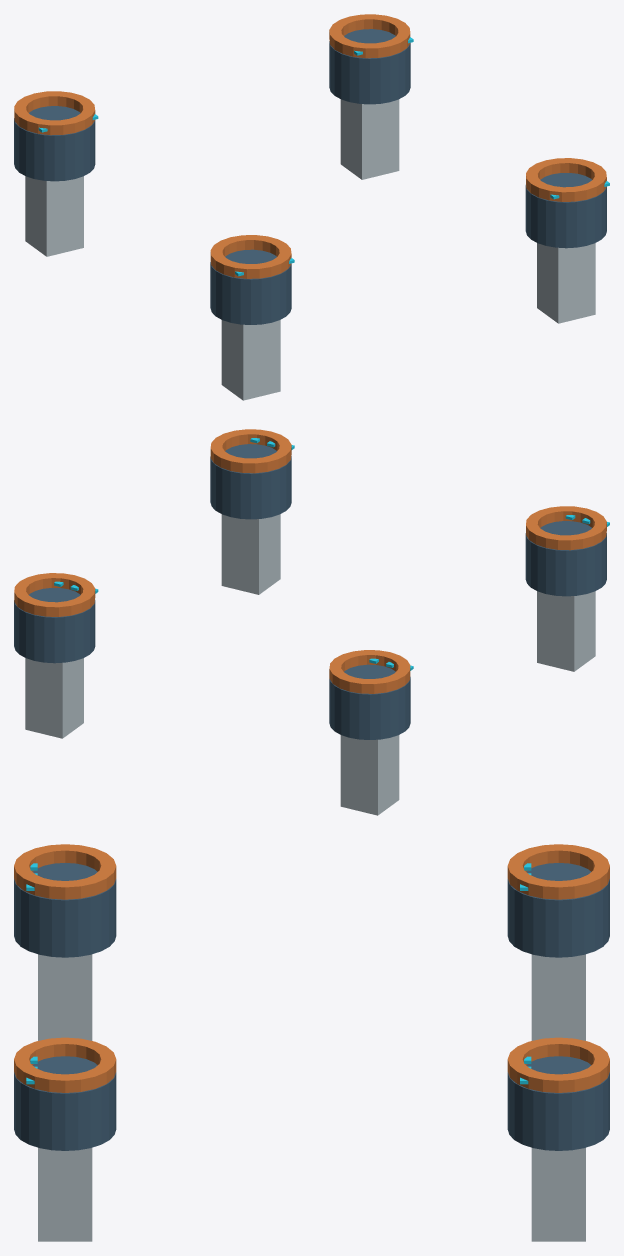
Rendered from 19_L75_FourCornerBeamUniformityCups.fbx.
The picture shows the model from 3 angles, top to bottom: view 1: azimuth 30°, elevation 25°; view 2: azimuth 150°, elevation 25°; view 3: azimuth 270°, elevation 25°; orthographic projection. The views are drawn at different scales.
Parts seen in each view (by area): view 1: FourCornerBeamUniformityCups_Part_0014, FourCornerBeamUniformityCups_Part_0000, FourCornerBeamUniformityCups_Part_0007, FourCornerBeamUniformityCups_Part_0021, FourCornerBeamUniformityCups_Part_0009, FourCornerBeamUniformityCups_Part_0016, FourCornerBeamUniformityCups_Part_0023, FourCornerBeamUniformityCups_Part_0002, FourCornerBeamUniformityCups_Part_0015, FourCornerBeamUniformityCups_Part_0001, FourCornerBeamUniformityCups_Part_0022, FourCornerBeamUniformityCups_Part_0008; view 2: FourCornerBeamUniformityCups_Part_0021, FourCornerBeamUniformityCups_Part_0000, FourCornerBeamUniformityCups_Part_0007, FourCornerBeamUniformityCups_Part_0014, FourCornerBeamUniformityCups_Part_0002, FourCornerBeamUniformityCups_Part_0023, FourCornerBeamUniformityCups_Part_0016, FourCornerBeamUniformityCups_Part_0009, FourCornerBeamUniformityCups_Part_0022, FourCornerBeamUniformityCups_Part_0008, FourCornerBeamUniformityCups_Part_0015, FourCornerBeamUniformityCups_Part_0001; view 3: FourCornerBeamUniformityCups_Part_0007, FourCornerBeamUniformityCups_Part_0000, FourCornerBeamUniformityCups_Part_0021, FourCornerBeamUniformityCups_Part_0014, FourCornerBeamUniformityCups_Part_0016, FourCornerBeamUniformityCups_Part_0023, FourCornerBeamUniformityCups_Part_0002, FourCornerBeamUniformityCups_Part_0009, FourCornerBeamUniformityCups_Part_0022, FourCornerBeamUniformityCups_Part_0008, FourCornerBeamUniformityCups_Part_0015, FourCornerBeamUniformityCups_Part_0001.
Boxes of the visible parts, x1=… form: FourCornerBeamUniformityCups_Part_0014: x1=329, y1=29, x2=410, y2=104; FourCornerBeamUniformityCups_Part_0000: x1=14, y1=106, x2=95, y2=181; FourCornerBeamUniformityCups_Part_0007: x1=210, y1=249, x2=291, y2=324; FourCornerBeamUniformityCups_Part_0021: x1=525, y1=173, x2=606, y2=248; FourCornerBeamUniformityCups_Part_0009: x1=221, y1=320, x2=280, y2=400; FourCornerBeamUniformityCups_Part_0016: x1=340, y1=99, x2=399, y2=179; FourCornerBeamUniformityCups_Part_0023: x1=537, y1=243, x2=595, y2=323; FourCornerBeamUniformityCups_Part_0002: x1=25, y1=176, x2=83, y2=256; FourCornerBeamUniformityCups_Part_0015: x1=329, y1=14, x2=410, y2=58; FourCornerBeamUniformityCups_Part_0001: x1=14, y1=91, x2=95, y2=135; FourCornerBeamUniformityCups_Part_0022: x1=526, y1=158, x2=606, y2=201; FourCornerBeamUniformityCups_Part_0008: x1=210, y1=235, x2=291, y2=278; FourCornerBeamUniformityCups_Part_0021: x1=210, y1=444, x2=291, y2=519; FourCornerBeamUniformityCups_Part_0000: x1=329, y1=664, x2=410, y2=739; FourCornerBeamUniformityCups_Part_0007: x1=525, y1=521, x2=606, y2=596; FourCornerBeamUniformityCups_Part_0014: x1=14, y1=588, x2=95, y2=663; FourCornerBeamUniformityCups_Part_0002: x1=340, y1=735, x2=399, y2=815; FourCornerBeamUniformityCups_Part_0023: x1=221, y1=514, x2=280, y2=594; FourCornerBeamUniformityCups_Part_0016: x1=25, y1=658, x2=83, y2=738; FourCornerBeamUniformityCups_Part_0009: x1=537, y1=591, x2=595, y2=671; FourCornerBeamUniformityCups_Part_0022: x1=210, y1=429, x2=291, y2=473; FourCornerBeamUniformityCups_Part_0008: x1=526, y1=506, x2=606, y2=550; FourCornerBeamUniformityCups_Part_0015: x1=14, y1=573, x2=95, y2=616; FourCornerBeamUniformityCups_Part_0001: x1=329, y1=650, x2=410, y2=693; FourCornerBeamUniformityCups_Part_0007: x1=14, y1=863, x2=116, y2=957; FourCornerBeamUniformityCups_Part_0000: x1=507, y1=863, x2=609, y2=957; FourCornerBeamUniformityCups_Part_0021: x1=14, y1=1056, x2=116, y2=1150; FourCornerBeamUniformityCups_Part_0014: x1=507, y1=1056, x2=609, y2=1150; FourCornerBeamUniformityCups_Part_0016: x1=531, y1=1147, x2=585, y2=1241; FourCornerBeamUniformityCups_Part_0023: x1=38, y1=1147, x2=92, y2=1241; FourCornerBeamUniformityCups_Part_0002: x1=531, y1=954, x2=585, y2=1040; FourCornerBeamUniformityCups_Part_0009: x1=38, y1=954, x2=92, y2=1040; FourCornerBeamUniformityCups_Part_0022: x1=14, y1=1037, x2=116, y2=1092; FourCornerBeamUniformityCups_Part_0008: x1=14, y1=844, x2=116, y2=899; FourCornerBeamUniformityCups_Part_0015: x1=507, y1=1037, x2=609, y2=1092; FourCornerBeamUniformityCups_Part_0001: x1=507, y1=844, x2=609, y2=899.
Bounding box in the file's own units: 186 × 62.75 × 198.
